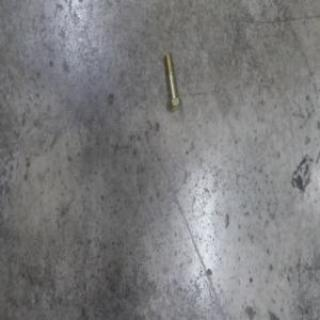Bolttrack_idkeyframe: (164, 50, 182, 110)
